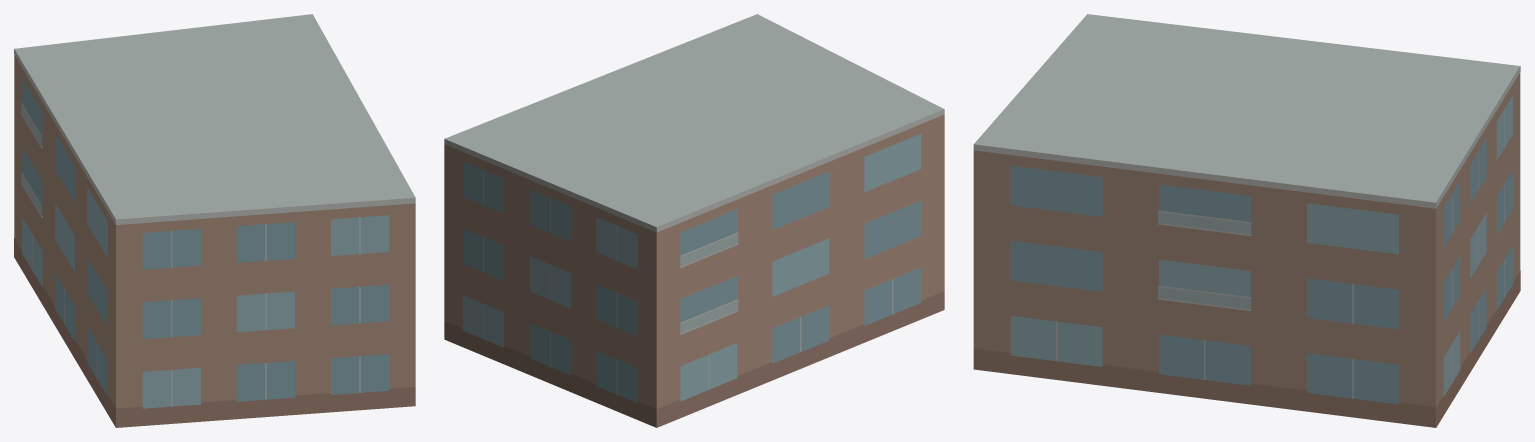
Rendered from survey-upis-32470855.glb.
3 renders of one model, left to right at view 1: azimuth 30°, elevation 25°; view 2: azimuth 150°, elevation 25°; view 3: azimuth 270°, elevation 25°, orthographic. The views are drawn at different scales.
Parts seen in each view (by area): view 1: survey-upis-32470855.tmp; view 2: survey-upis-32470855.tmp; view 3: survey-upis-32470855.tmp.
Part boxes in pixels (x1,y1,x2,y2): survey-upis-32470855.tmp: [14, 14, 415, 427]; survey-upis-32470855.tmp: [444, 14, 944, 427]; survey-upis-32470855.tmp: [973, 14, 1520, 427].
Bounding box in the file's own units: 16.47 × 9.15 × 20.15.
